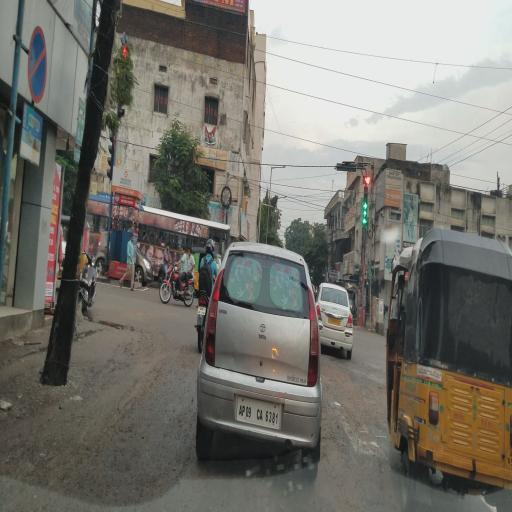street_light_0: (270, 154, 286, 180)
